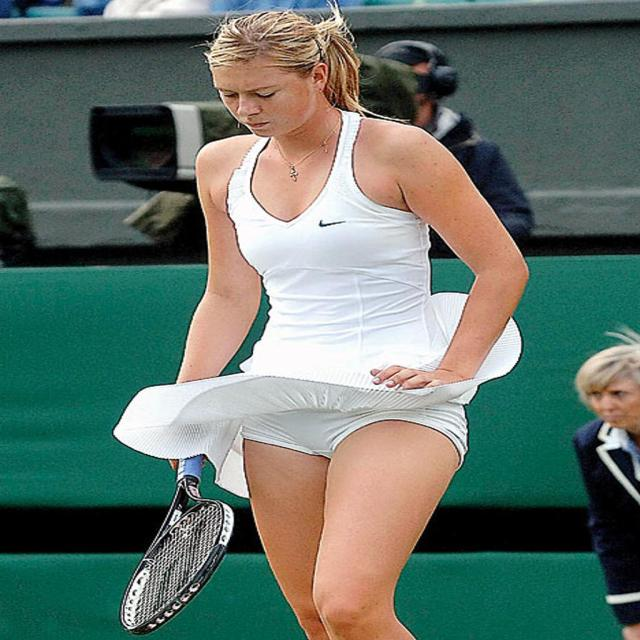Face: (195, 24, 334, 146)
